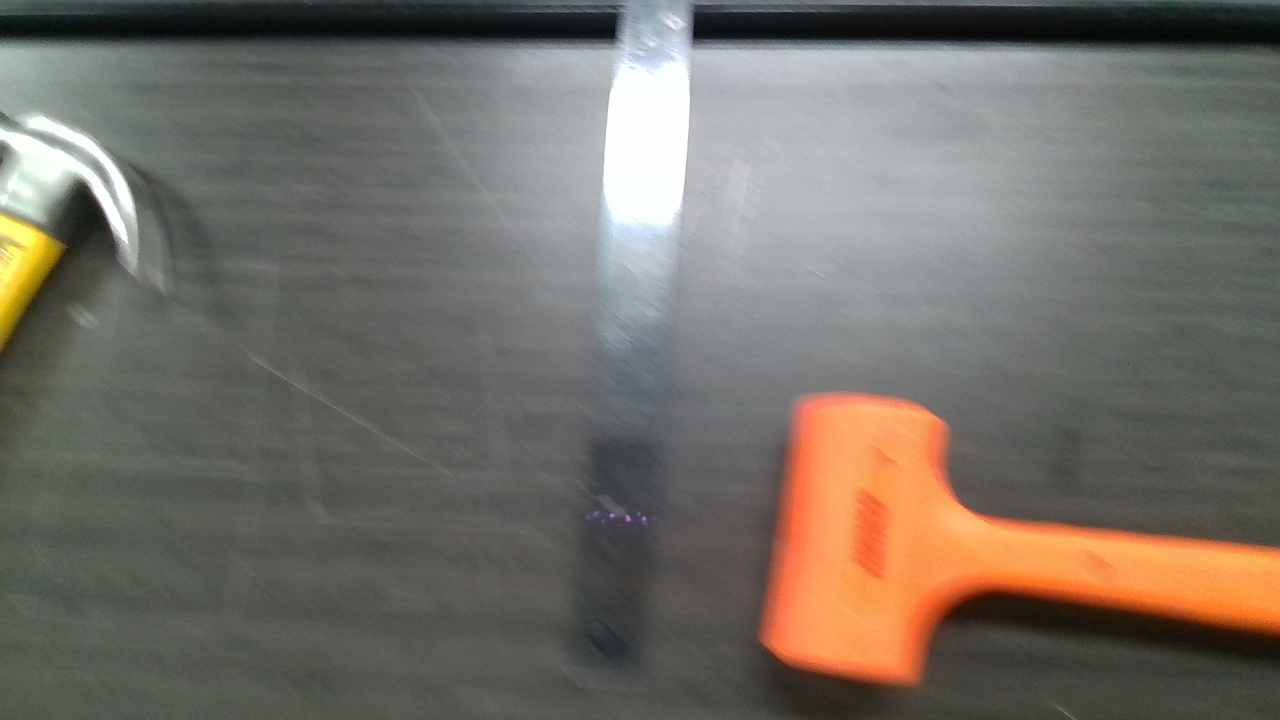Orange Hammer: (766, 393, 1276, 690)
